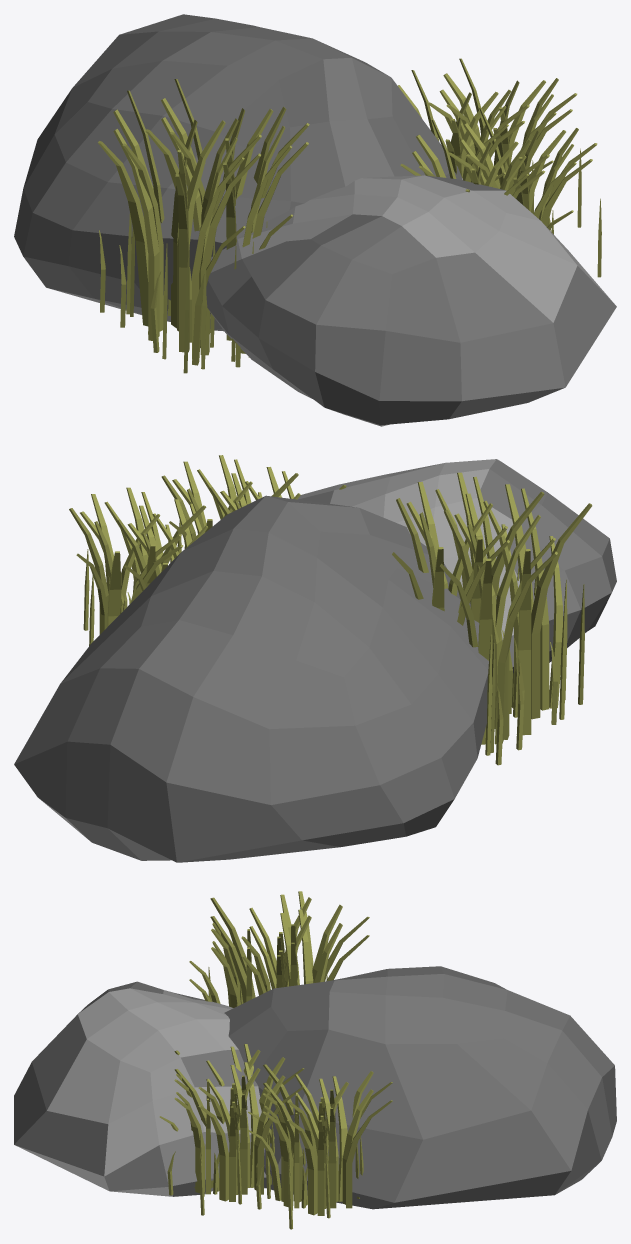
The model's file is rocks with grass.fbx.
3 views of the same model, one above another, from view 1: azimuth 30°, elevation 25°; view 2: azimuth 150°, elevation 25°; view 3: azimuth 270°, elevation 25° (orthographic). The views are drawn at different scales.
Visible parts, largest first — view 1: Cube.001, Cube, Cube.009, Cube.024, Cube.016, Cube.014, Cube.008, Cube.005, Cube.020, Cube.004, Cube.021, Cube.002 (+7 smaller); view 2: Cube, Cube.001, Cube.016, Cube.024, Cube.020, Cube.009, Cube.003, Cube.021, Cube.011, Cube.177, Cube.008, Cube.049 (+11 smaller); view 3: Cube, Cube.001, Cube.168, Cube.073, Cube.167, Cube.176, Cube.165, Cube.065, Cube.171, Cube.178, Cube.074, Cube.070 (+15 smaller).
Boxes of the visible parts, bbox=[...] form: Cube.001: bbox=[206, 175, 616, 426]; Cube: bbox=[14, 14, 462, 331]; Cube.009: bbox=[98, 141, 148, 326]; Cube.024: bbox=[113, 129, 159, 340]; Cube.016: bbox=[175, 174, 189, 352]; Cube.014: bbox=[200, 153, 260, 355]; Cube.008: bbox=[122, 143, 163, 331]; Cube.005: bbox=[177, 120, 225, 331]; Cube.020: bbox=[192, 157, 244, 359]; Cube.004: bbox=[171, 120, 197, 328]; Cube.021: bbox=[192, 226, 245, 365]; Cube.002: bbox=[127, 90, 164, 298]; Cube: bbox=[14, 495, 488, 862]; Cube.001: bbox=[297, 459, 616, 673]; Cube.016: bbox=[531, 503, 592, 719]; Cube.024: bbox=[517, 549, 531, 735]; Cube.020: bbox=[521, 488, 549, 710]; Cube.009: bbox=[495, 551, 557, 744]; Cube.003: bbox=[478, 558, 492, 744]; Cube.021: bbox=[549, 536, 562, 708]; Cube.011: bbox=[495, 515, 540, 654]; Cube.177: bbox=[107, 551, 121, 626]; Cube.008: bbox=[502, 538, 555, 739]; Cube.049: bbox=[491, 491, 544, 598]; Cube: bbox=[224, 966, 616, 1209]; Cube.001: bbox=[14, 981, 266, 1196]; Cube.168: bbox=[287, 1119, 317, 1215]; Cube.073: bbox=[198, 1105, 228, 1201]; Cube.167: bbox=[263, 1111, 293, 1207]; Cube.176: bbox=[328, 1108, 336, 1208]; Cube.165: bbox=[263, 1082, 302, 1202]; Cube.065: bbox=[240, 1094, 247, 1194]; Cube.171: bbox=[332, 1076, 347, 1201]; Cube.178: bbox=[346, 1100, 392, 1208]; Cube.074: bbox=[174, 1097, 204, 1193]; Cube.070: bbox=[244, 1062, 258, 1187].
Size of the model in its own units: 255 by 133 by 354.
